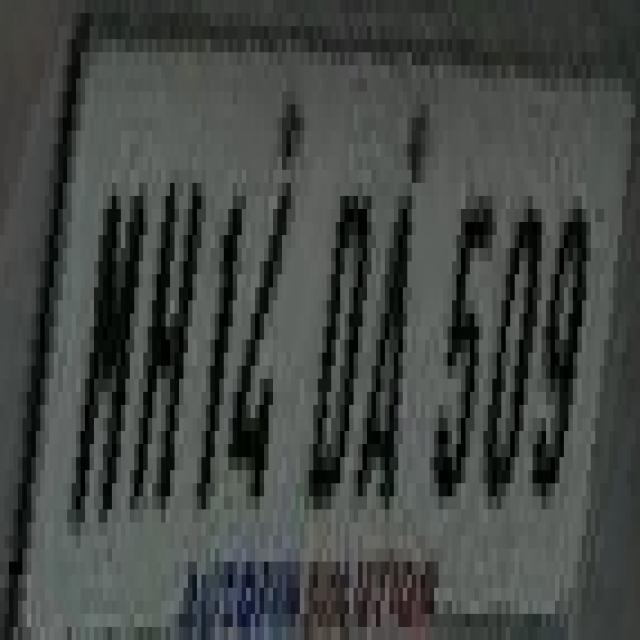license_plate: (27, 39, 635, 601)
